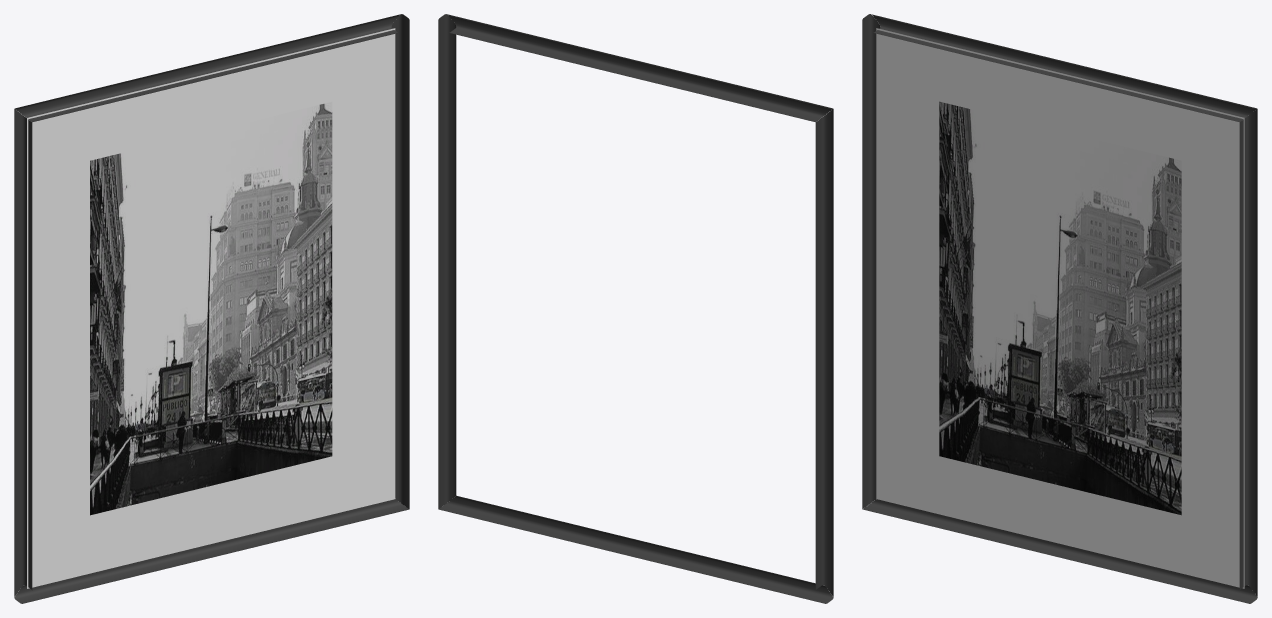
Rendered from Foto_R.glb.
The picture shows the model from 3 angles, left to right: view 1: azimuth 30°, elevation 25°; view 2: azimuth 150°, elevation 25°; view 3: azimuth 330°, elevation 25°; orthographic projection.
Visible parts, largest first — view 1: BP_Foto_R; view 2: BP_Foto_R; view 3: BP_Foto_R.
Boxes of the visible parts, x1=… form: BP_Foto_R: x1=14, y1=14, x2=409, y2=603; BP_Foto_R: x1=438, y1=14, x2=833, y2=603; BP_Foto_R: x1=862, y1=14, x2=1257, y2=603.
Size of the model in its own units: 0.4742 by 0.5728 by 0.0201.
3 materials, 1 textured.
